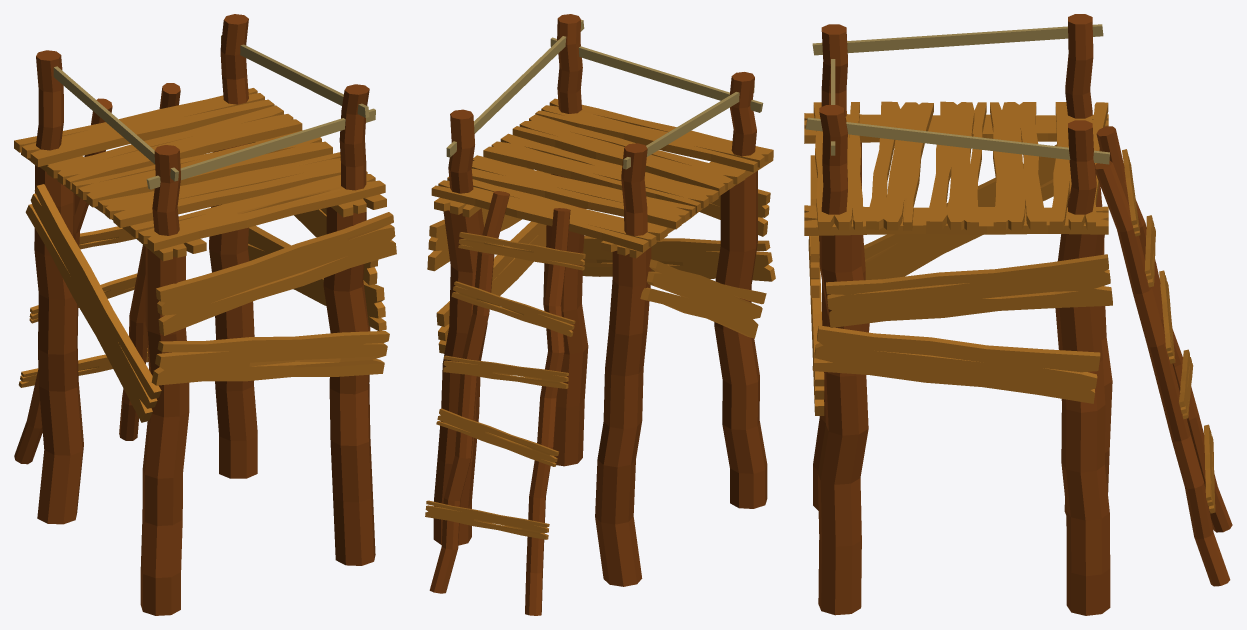
Rendered from SM_ArcherTower.fbx.
3 views of the same model, side by side, from view 1: azimuth 30°, elevation 25°; view 2: azimuth 150°, elevation 25°; view 3: azimuth 270°, elevation 25° (orthographic). The views are drawn at different scales.
Visible parts, largest first — view 1: Cube.001; view 2: Cube.001; view 3: Cube.001.
Part boxes in pixels (x1,y1,x2,y2): Cube.001: [14, 14, 396, 615]; Cube.001: [425, 14, 775, 615]; Cube.001: [804, 14, 1232, 615].
Bounding box in the file's own units: 448 × 833 × 651.
